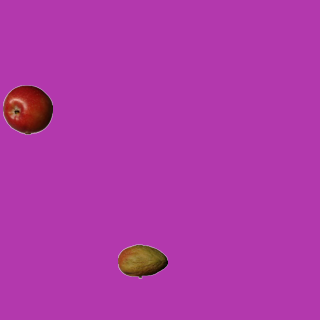Apple Braeburn: (2, 84, 52, 134)
Papaya: (117, 236, 167, 286)
